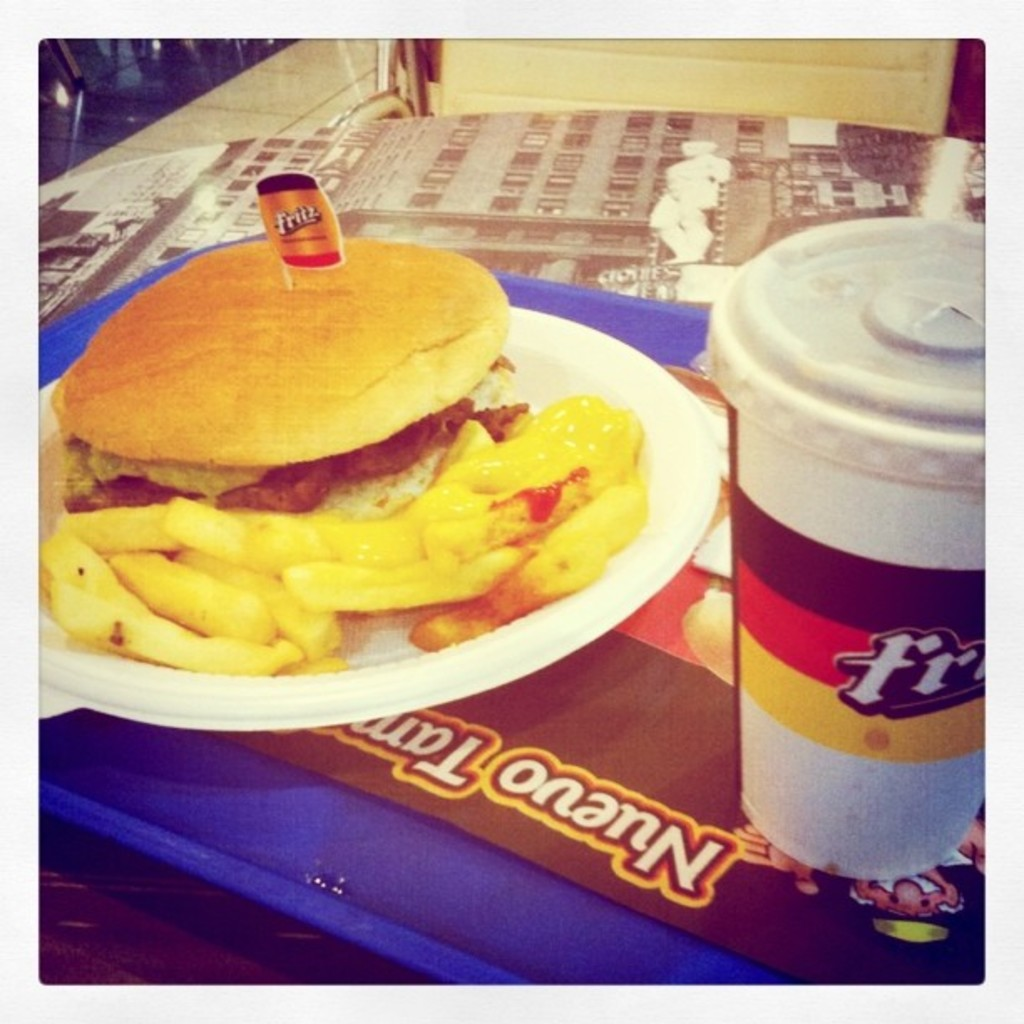French fries: (46, 424, 562, 670)
